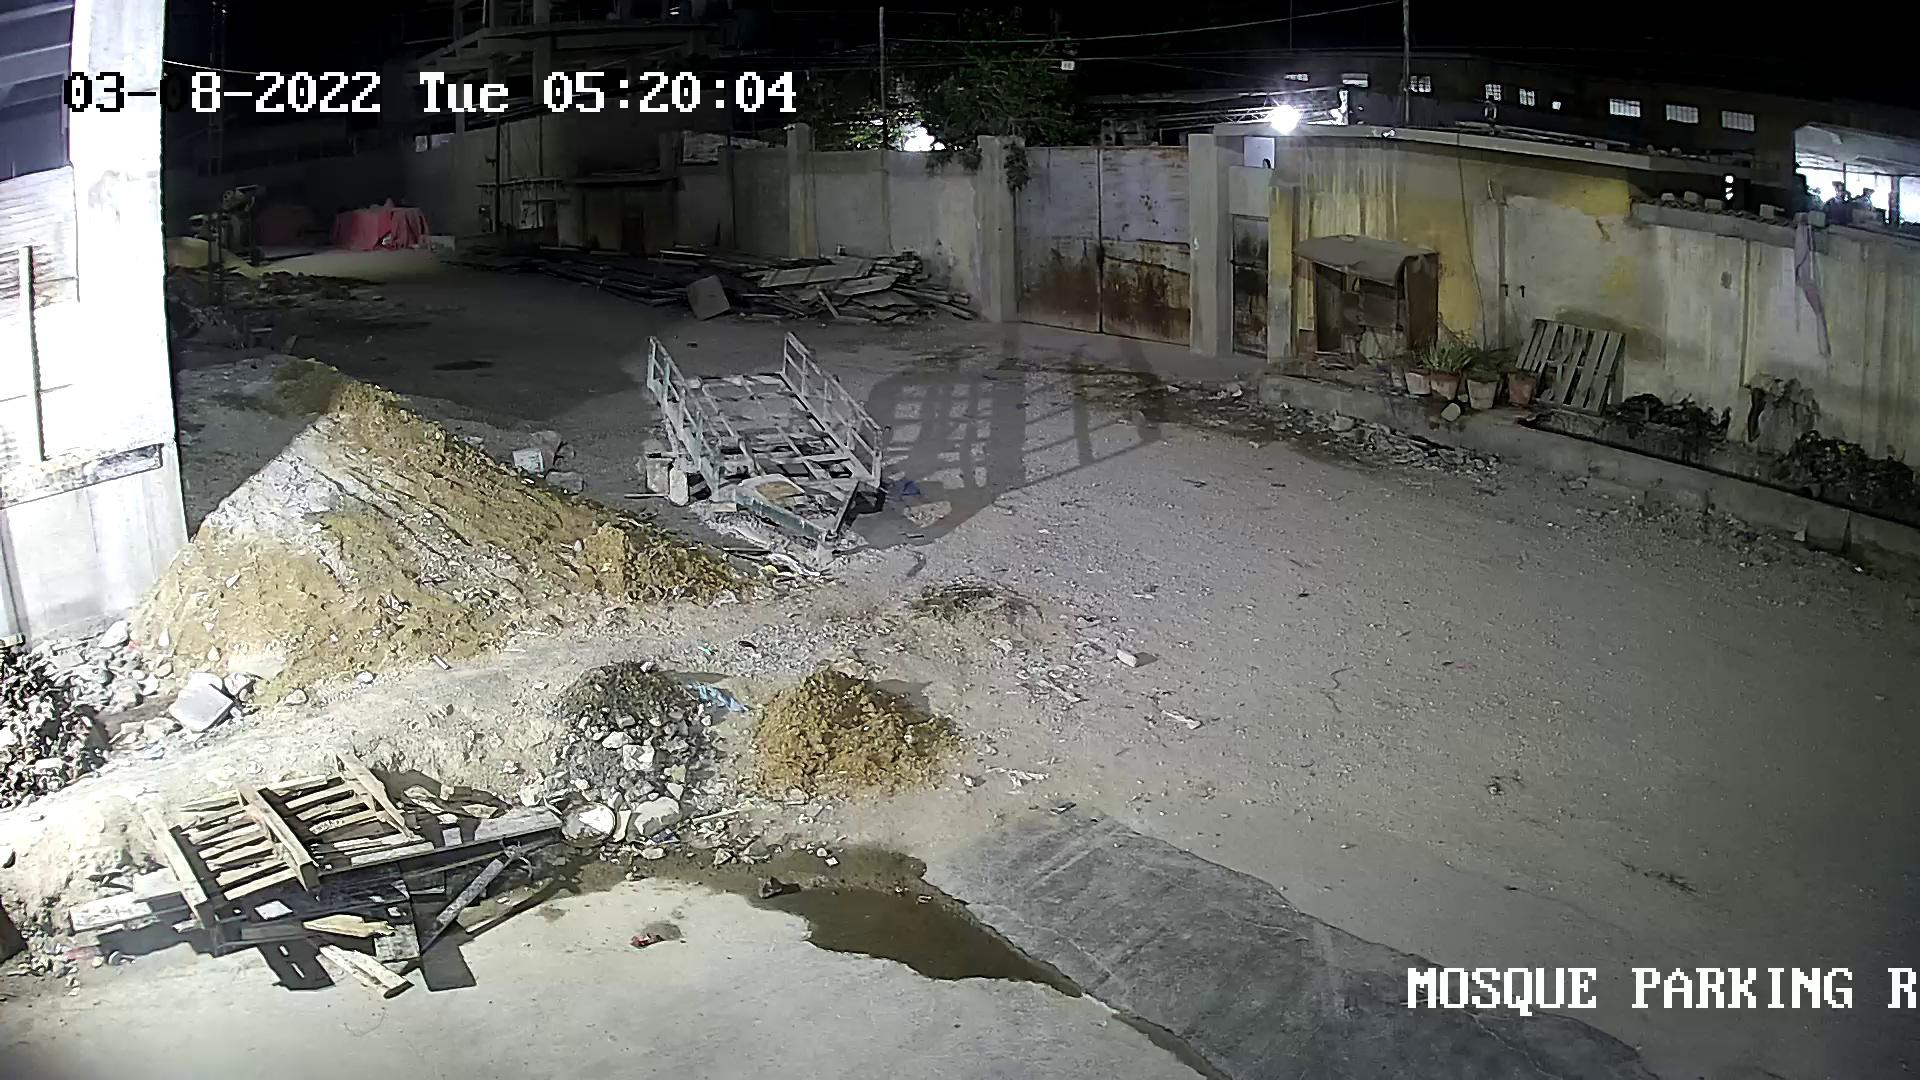other: (211, 187, 265, 264)
